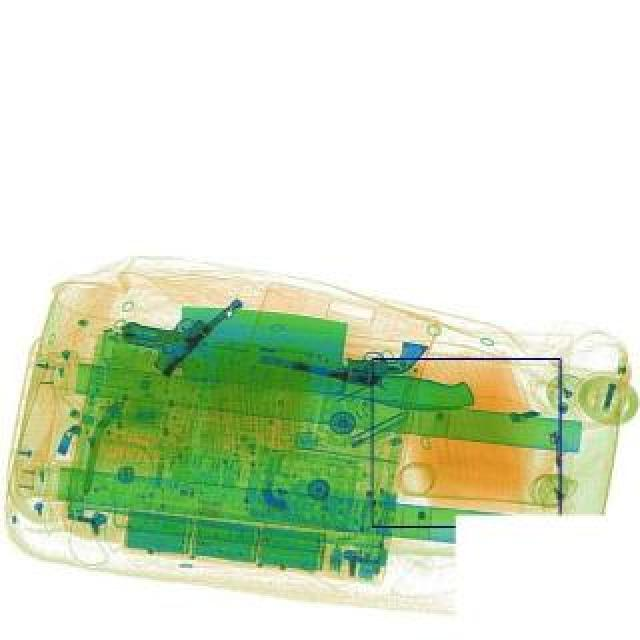gun: (112, 262, 242, 380), (256, 318, 428, 400)
knife: (170, 304, 480, 418)
